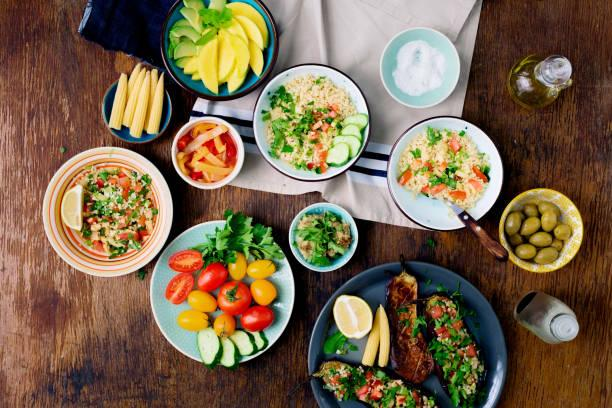Braised Crucian Carp: (309, 260, 507, 406), (149, 220, 294, 363), (41, 147, 172, 276), (252, 63, 368, 182), (386, 116, 502, 229), (159, 0, 278, 102)
